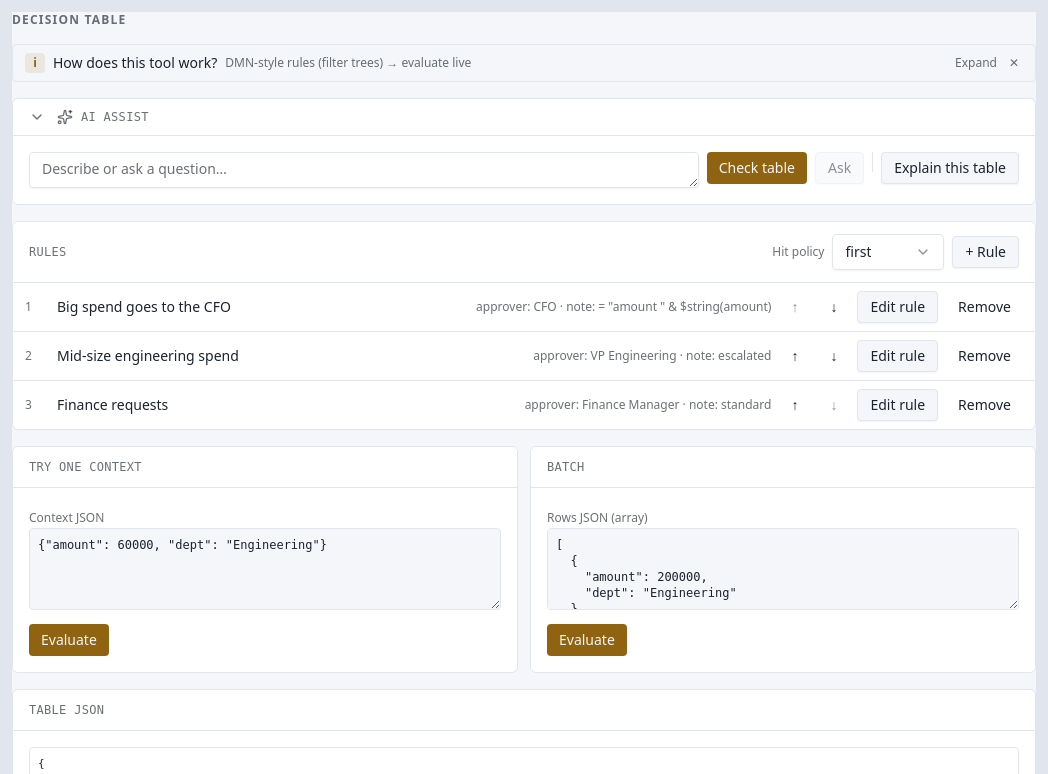
Test: DecisionTableTool — AI panel › check succeeds → the answer stack shows the formatted finding
What coordinates should you click on to do the following:
click the button "Check table"
I would click on:
 (757, 168)
Its box is top-left (707, 152), bottom-right (807, 184).
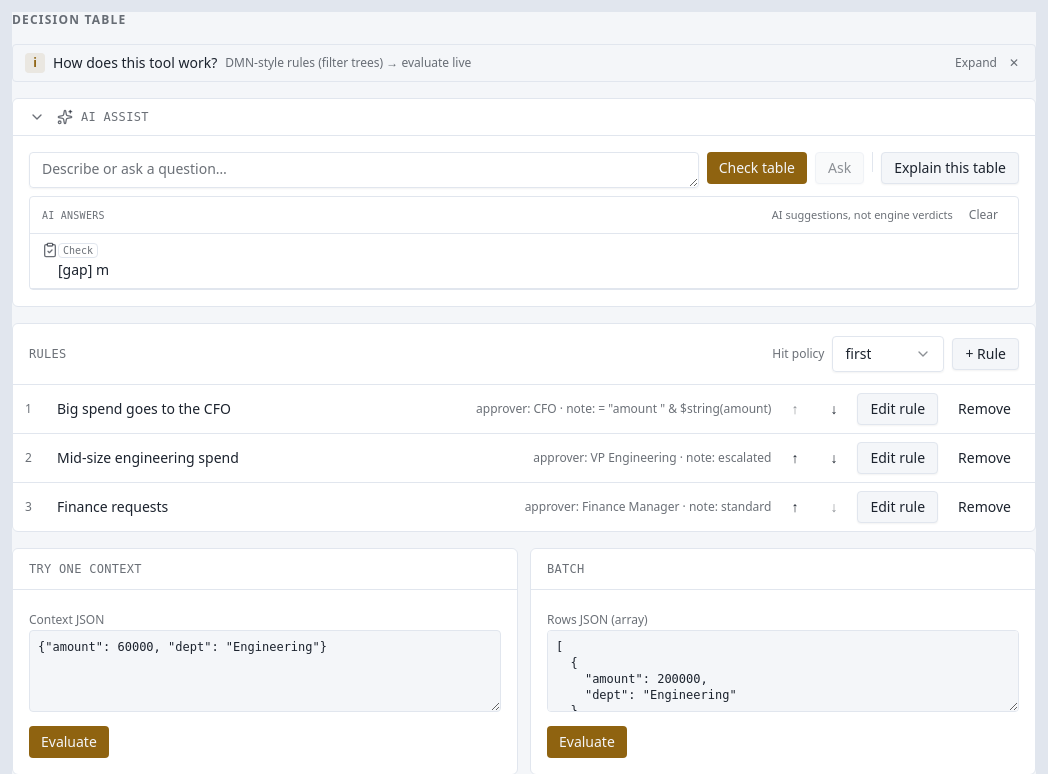
Result: the text "[gap] m" is shown at top-left (58, 260), bottom-right (109, 280)
